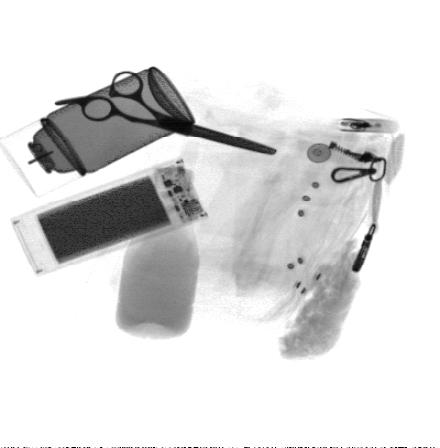Lighter: (340, 119, 398, 136)
Powerbank: (10, 158, 209, 278)
Scissors: (54, 68, 279, 158)
Sprayer: (2, 65, 197, 201)
